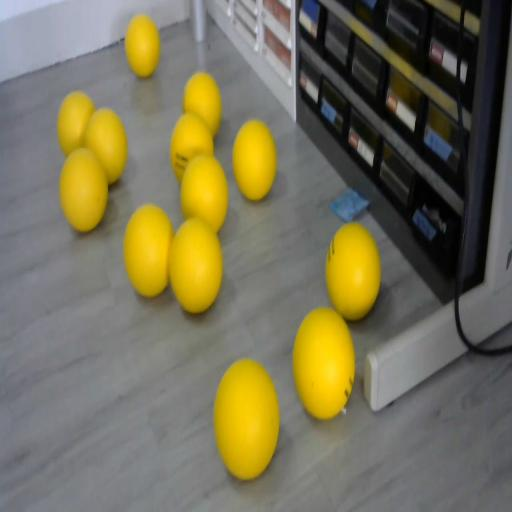FUEL: (213, 356, 280, 478), (291, 306, 356, 420), (325, 223, 381, 320), (168, 217, 223, 313), (122, 204, 174, 296), (58, 147, 110, 233), (179, 154, 229, 233), (232, 118, 278, 200), (182, 72, 223, 137), (56, 91, 96, 157), (124, 14, 160, 78)
